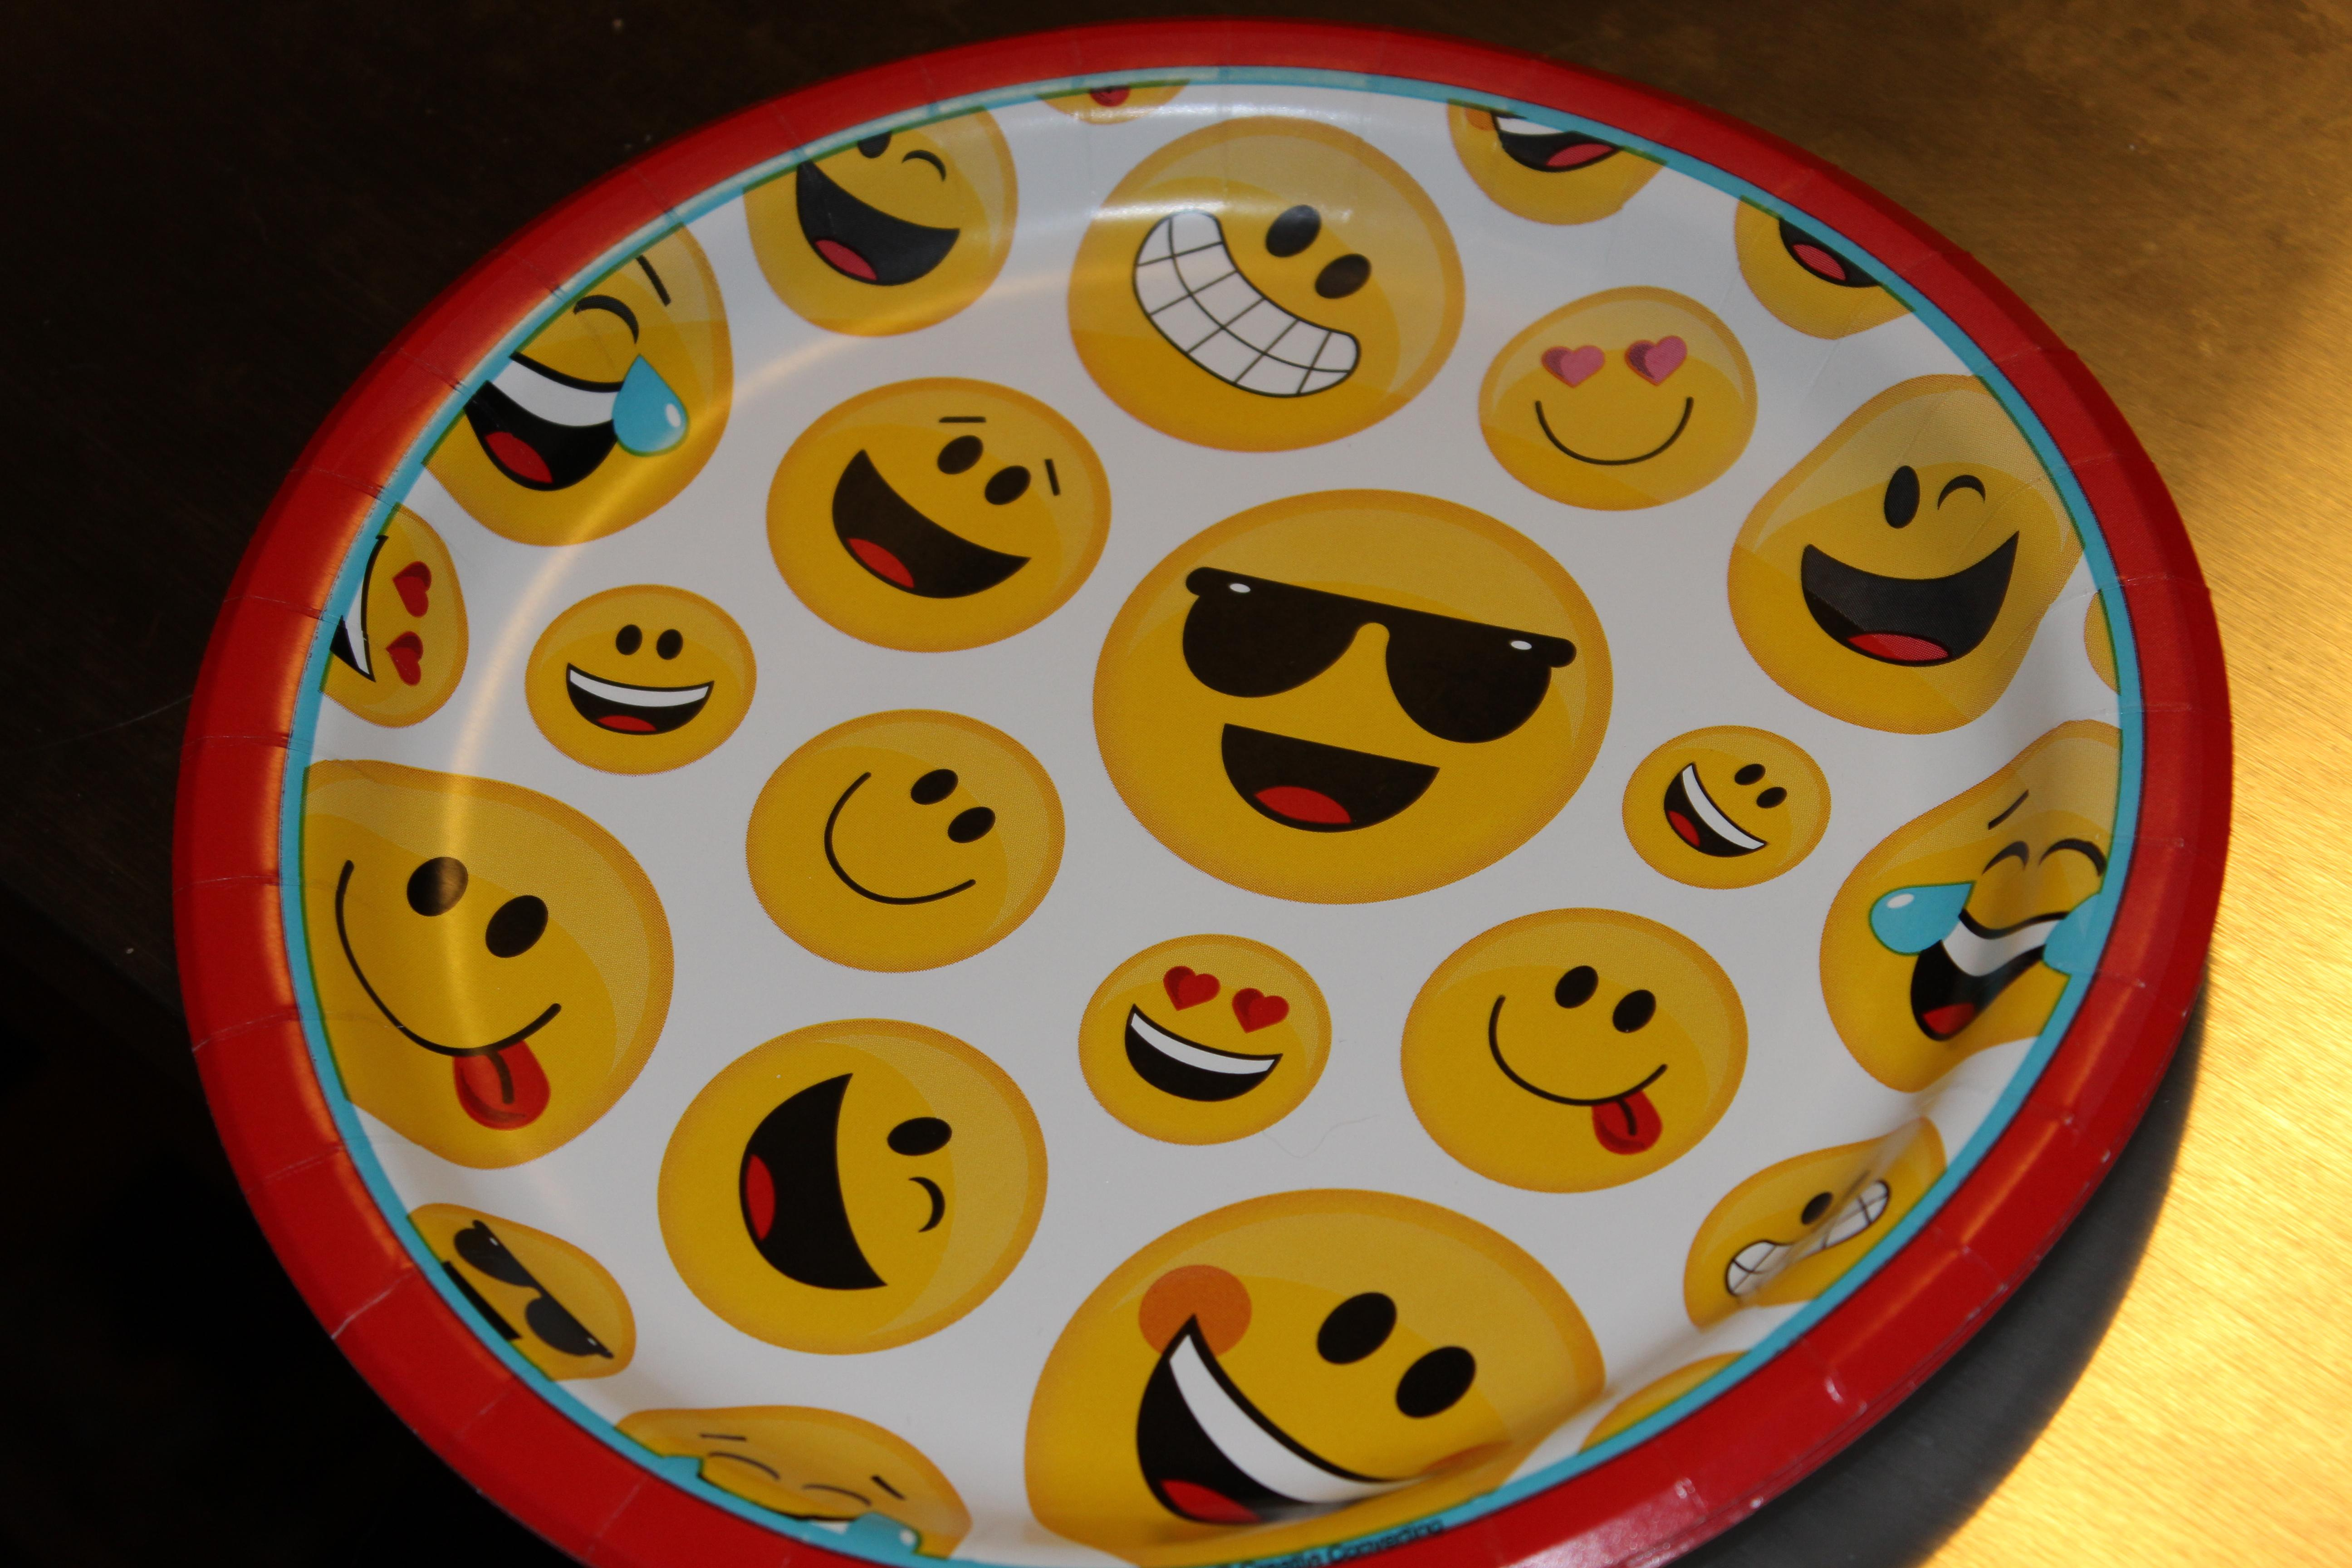paperPlate: (103, 5, 2261, 1568)
